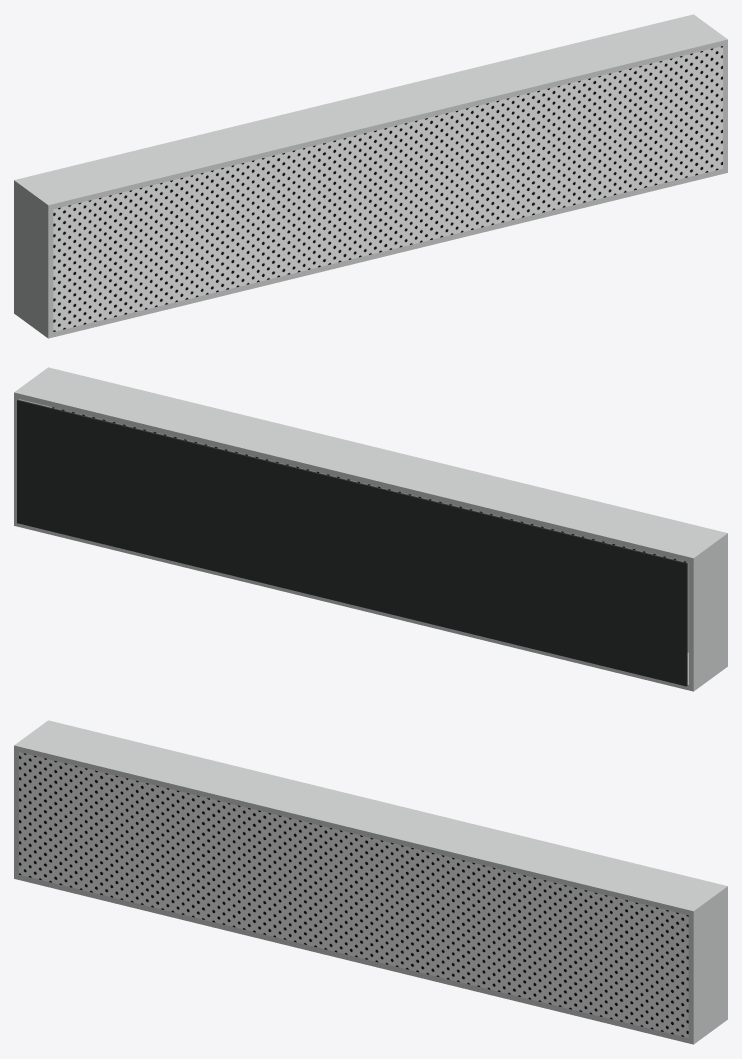
The model's file is ecoclima-egff-400x75.glb.
The picture shows the model from 3 angles, top to bottom: view 1: azimuth 30°, elevation 25°; view 2: azimuth 150°, elevation 25°; view 3: azimuth 330°, elevation 25°; orthographic projection.
Visible parts, largest first — view 1: Profile_lamiera_forata.001, Profile_ritorno.120, Profile_ritorno.122, Profile_ritorno.121, Profile_ritorno.123; view 2: Interno.032, Profile_ritorno.120, Profile_ritorno.122, Profile_ritorno.121, Profile_lamiera_forata.001; view 3: Profile_lamiera_forata.001, Profile_ritorno.120, Profile_ritorno.123, Profile_ritorno.121, Profile_ritorno.122.
Part boxes in pixels (bbox=[...]): Profile_lamiera_forata.001: bbox=[53, 46, 722, 331]; Profile_ritorno.120: bbox=[14, 14, 727, 210]; Profile_ritorno.122: bbox=[14, 186, 53, 333]; Profile_ritorno.121: bbox=[14, 167, 727, 338]; Profile_ritorno.123: bbox=[723, 45, 727, 168]; Interno.032: bbox=[17, 400, 687, 686]; Profile_ritorno.120: bbox=[14, 367, 727, 563]; Profile_ritorno.122: bbox=[688, 539, 727, 686]; Profile_ritorno.121: bbox=[14, 520, 727, 691]; Profile_lamiera_forata.001: bbox=[52, 407, 688, 652]; Profile_lamiera_forata.001: bbox=[19, 752, 688, 1037]; Profile_ritorno.120: bbox=[14, 720, 727, 916]; Profile_ritorno.123: bbox=[688, 892, 727, 1039]; Profile_ritorno.121: bbox=[14, 873, 727, 1044]; Profile_ritorno.122: bbox=[14, 751, 18, 874].
Bounding box in the file's own units: 0.4 × 0.075 × 0.037.
Materials: 3 (1 with a texture image).
